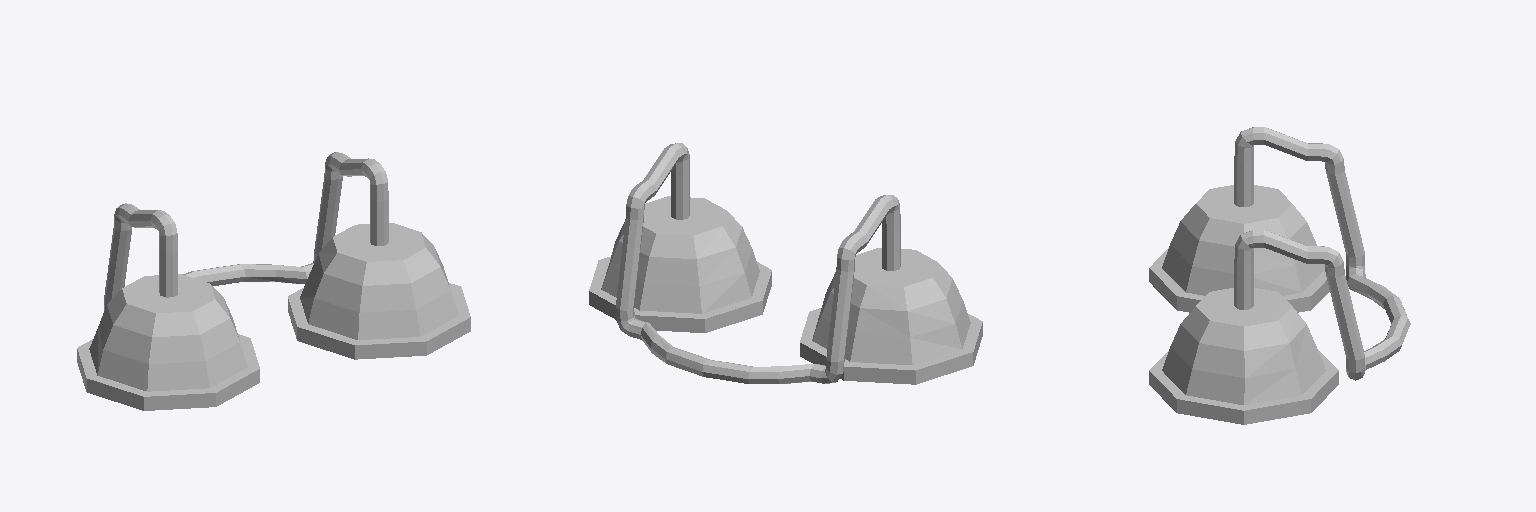
Rendered from Ching.obj.
The picture shows the model from 3 angles: view 1: azimuth 30°, elevation 25°; view 2: azimuth 150°, elevation 25°; view 3: azimuth 270°, elevation 25°; orthographic projection.
Visible parts, largest first — view 1: Circle; view 2: Circle; view 3: Circle.
Boxes of the visible parts, <box> form: Circle: <box>77,152,470,410</box>; Circle: <box>589,143,982,384</box>; Circle: <box>1149,127,1410,424</box>.
Bounding box in the file's own units: 2.02 × 0.7995 × 1.22.